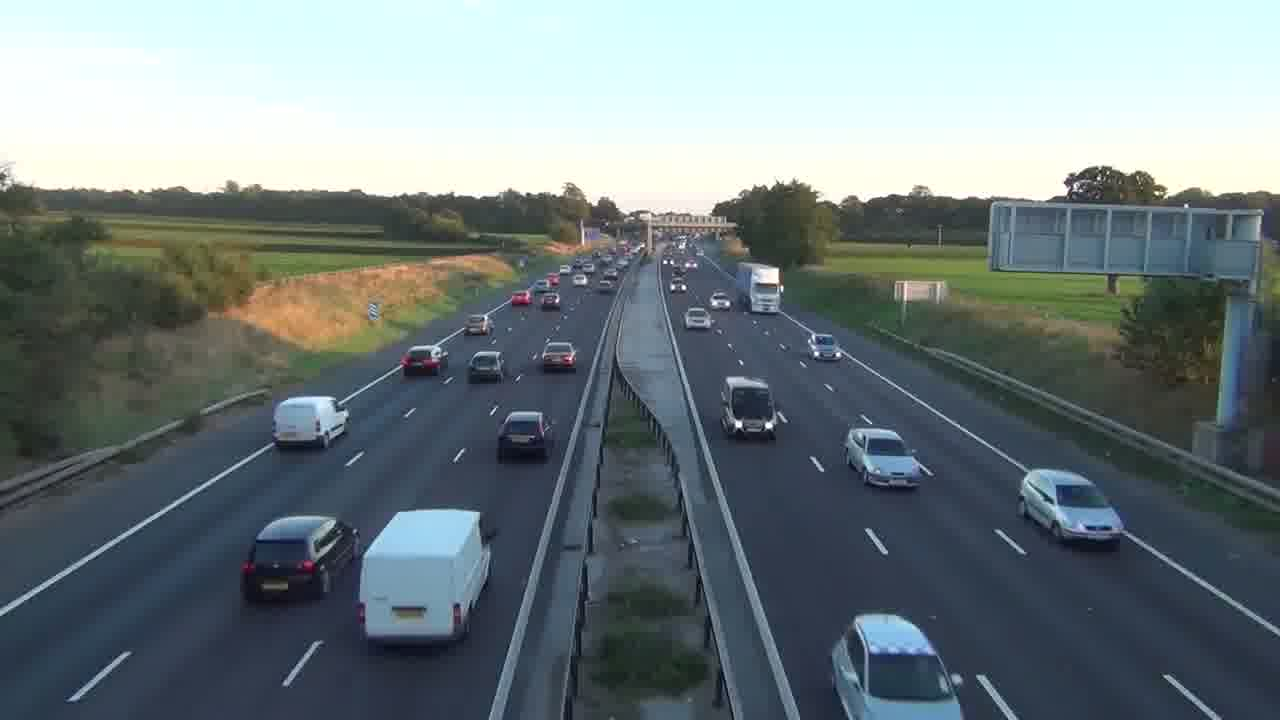car: (829, 611, 965, 720), (240, 514, 359, 603), (1018, 467, 1126, 549), (844, 426, 934, 489), (497, 410, 551, 458), (400, 344, 443, 376), (467, 349, 504, 383), (541, 340, 577, 373)
truck: (356, 507, 495, 647), (719, 375, 785, 441), (272, 395, 351, 450), (736, 261, 784, 314)
